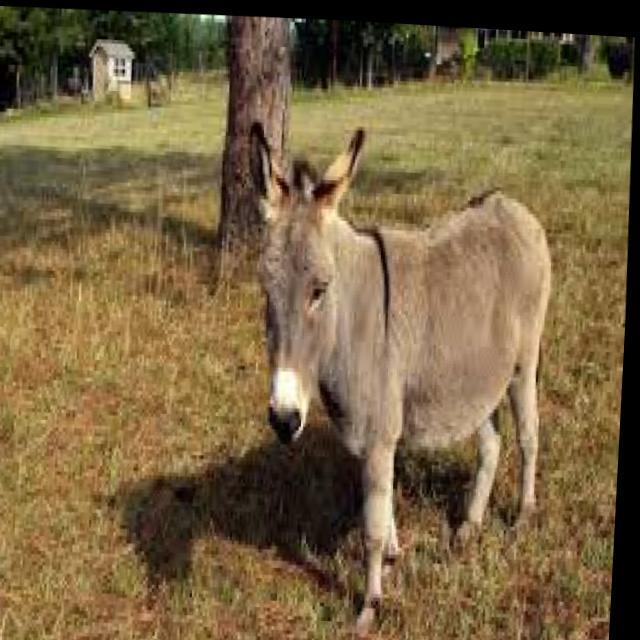Donkey: (225, 140, 552, 554)
